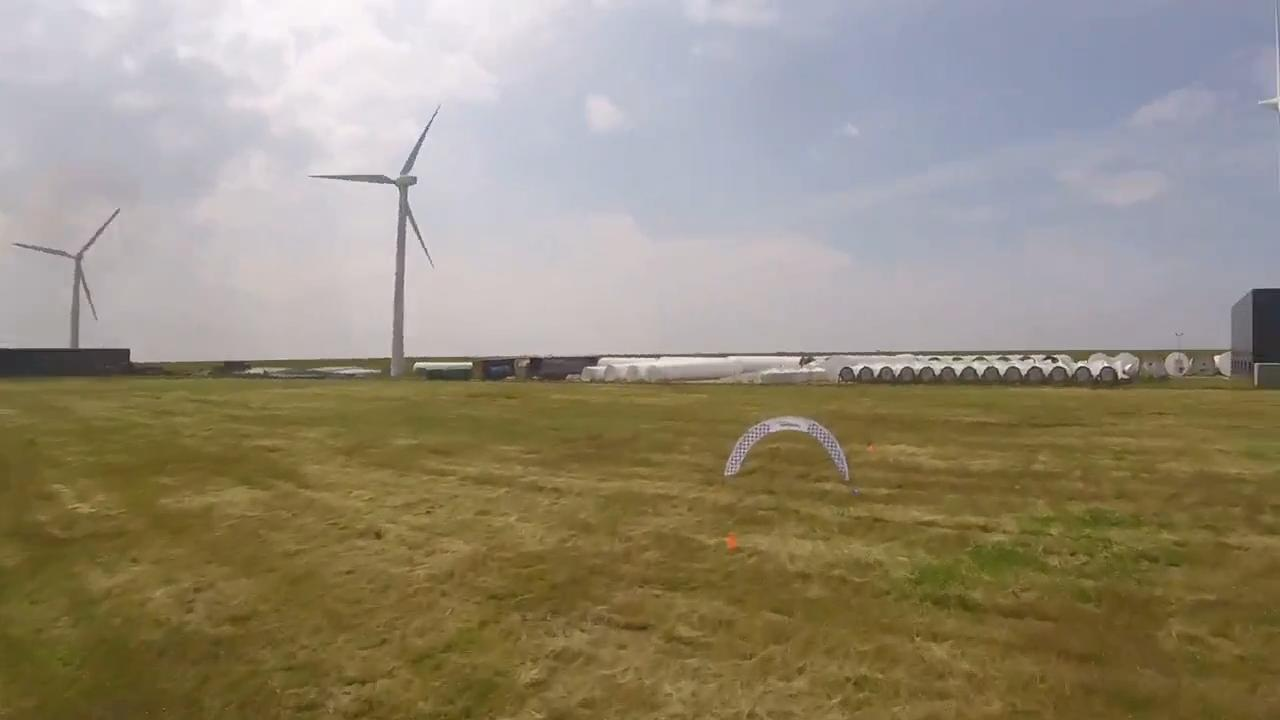gate: (723, 416, 850, 485)
